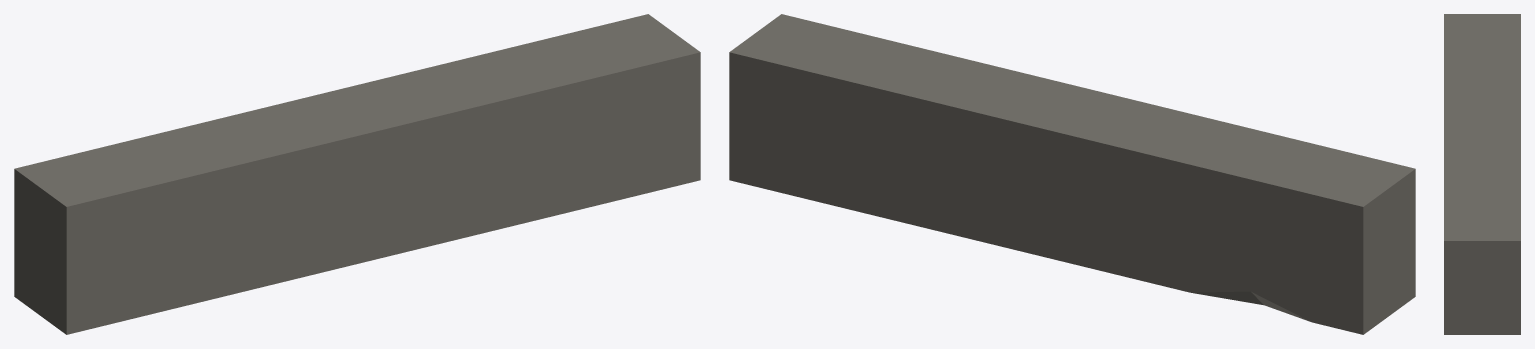
Rendered from SM_Train_Subway_Station_Pillar_Beam_01.fbx.
3 renders of one model, left to right at view 1: azimuth 30°, elevation 25°; view 2: azimuth 150°, elevation 25°; view 3: azimuth 270°, elevation 25°, orthographic. The views are drawn at different scales.
Visible parts, largest first — view 1: SM_Train_Subway_Station_Pillar_Beam_01; view 2: SM_Train_Subway_Station_Pillar_Beam_01; view 3: SM_Train_Subway_Station_Pillar_Beam_01.
Boxes of the visible parts, x1,y1,x2,y2 form: SM_Train_Subway_Station_Pillar_Beam_01: (14,14,700,334); SM_Train_Subway_Station_Pillar_Beam_01: (729,14,1415,334); SM_Train_Subway_Station_Pillar_Beam_01: (1444,14,1520,334).
Bounding box in the file's own units: 350 × 67.5 × 50.
